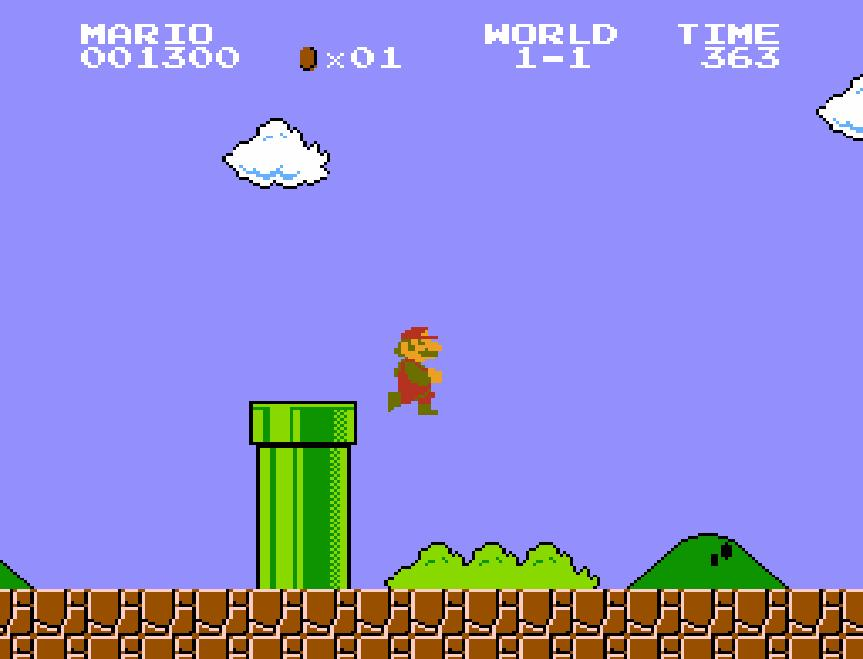big_mario: (386, 319, 444, 417)
